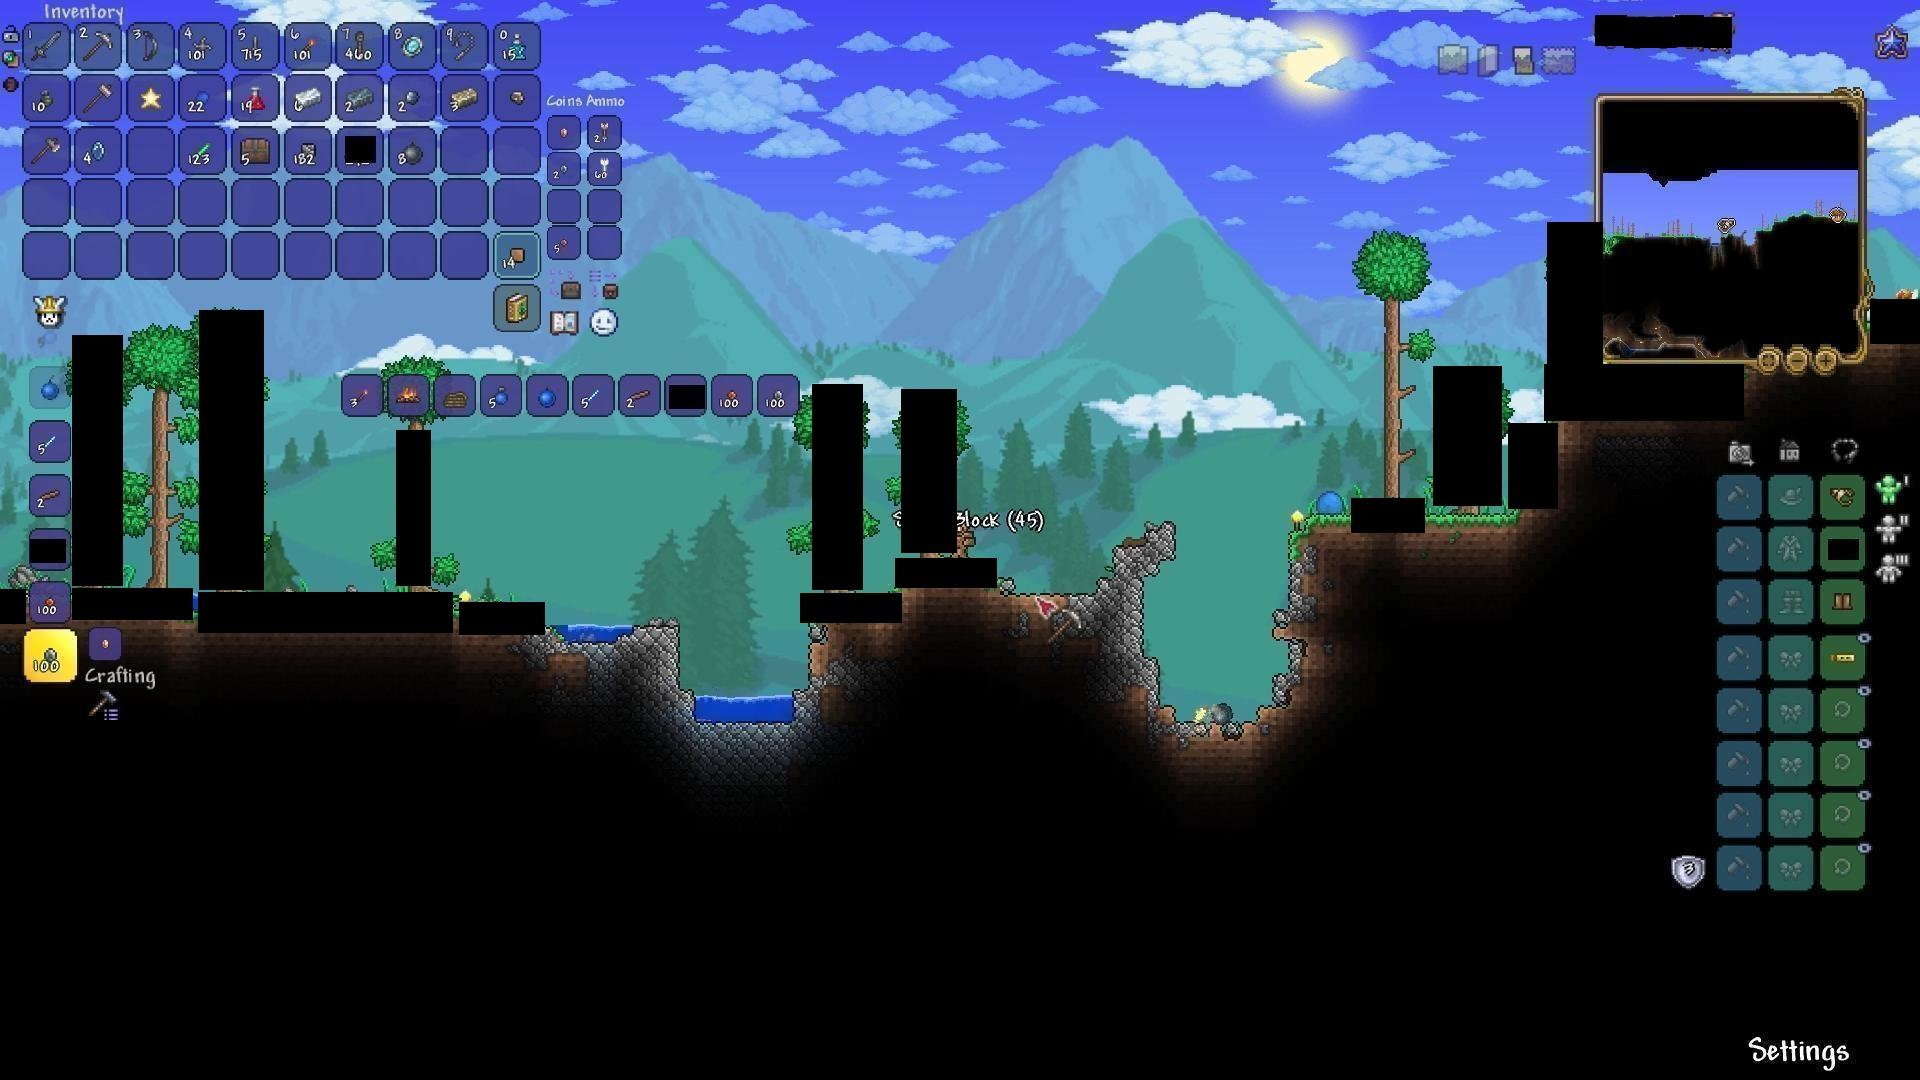dirt: (1425, 510, 1522, 545), (1288, 514, 1353, 560)
legs: (1829, 589, 1858, 615)
slime: (1309, 479, 1346, 516)
tree: (1353, 219, 1428, 495), (136, 320, 186, 585)
